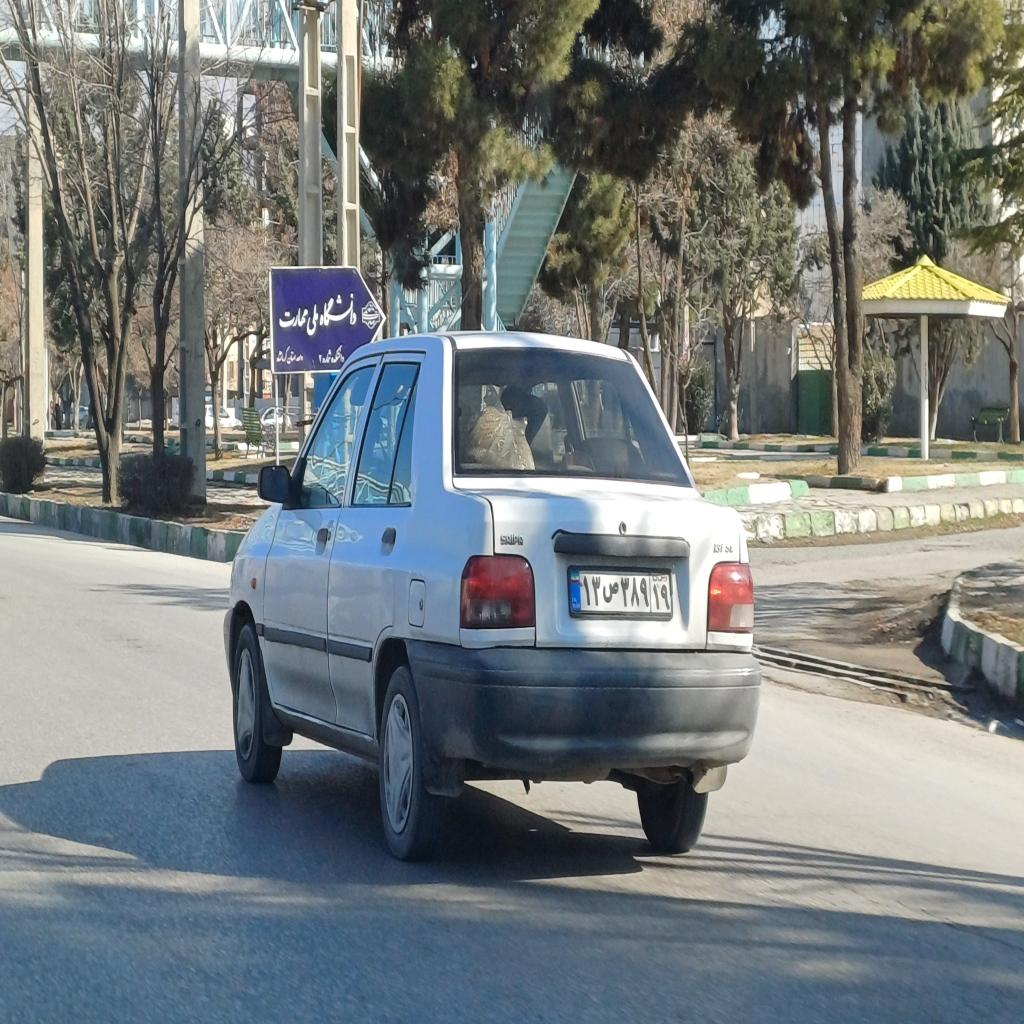Plates: (568, 570, 673, 612)
